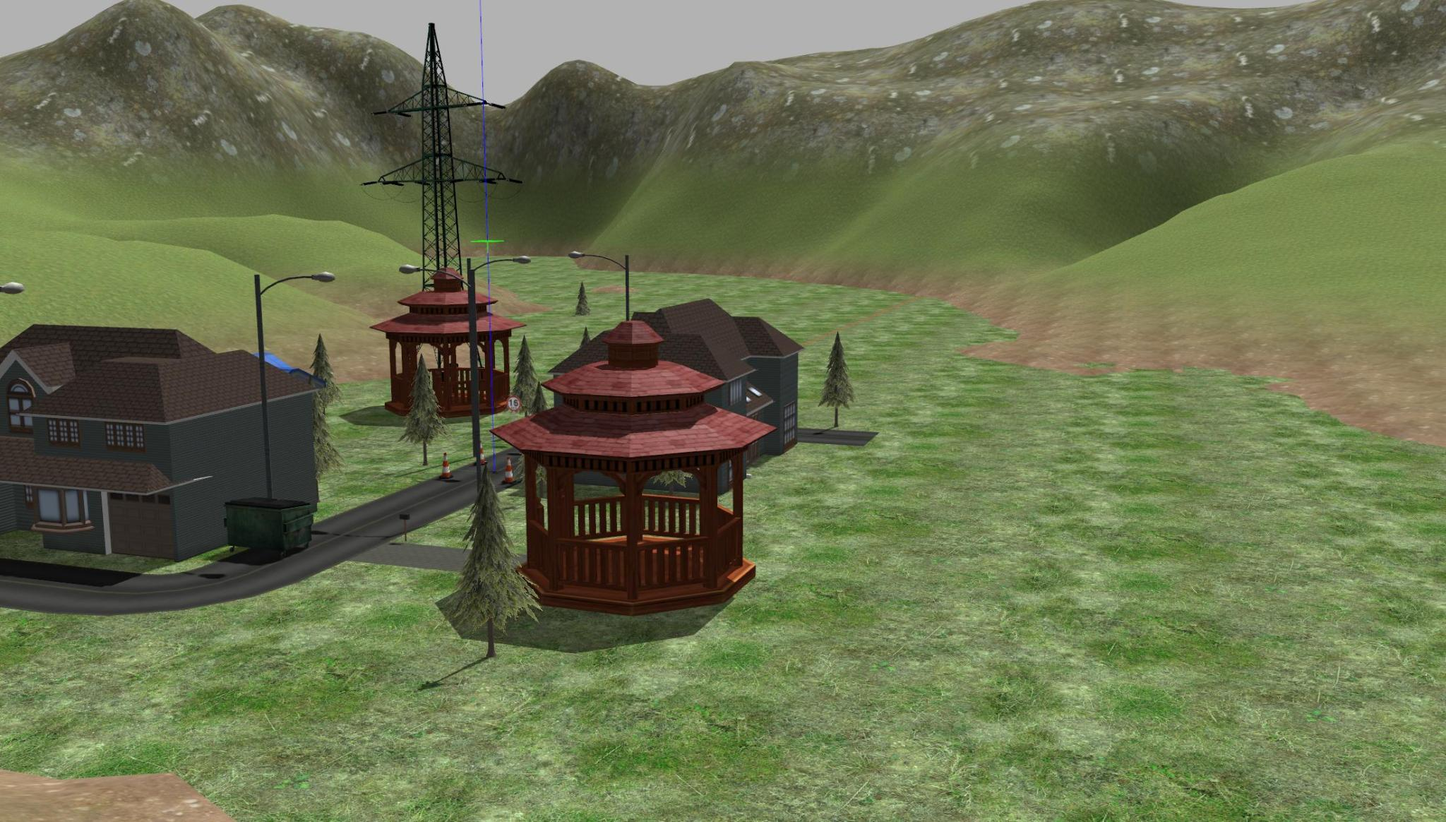tower: (370, 23, 500, 271)
